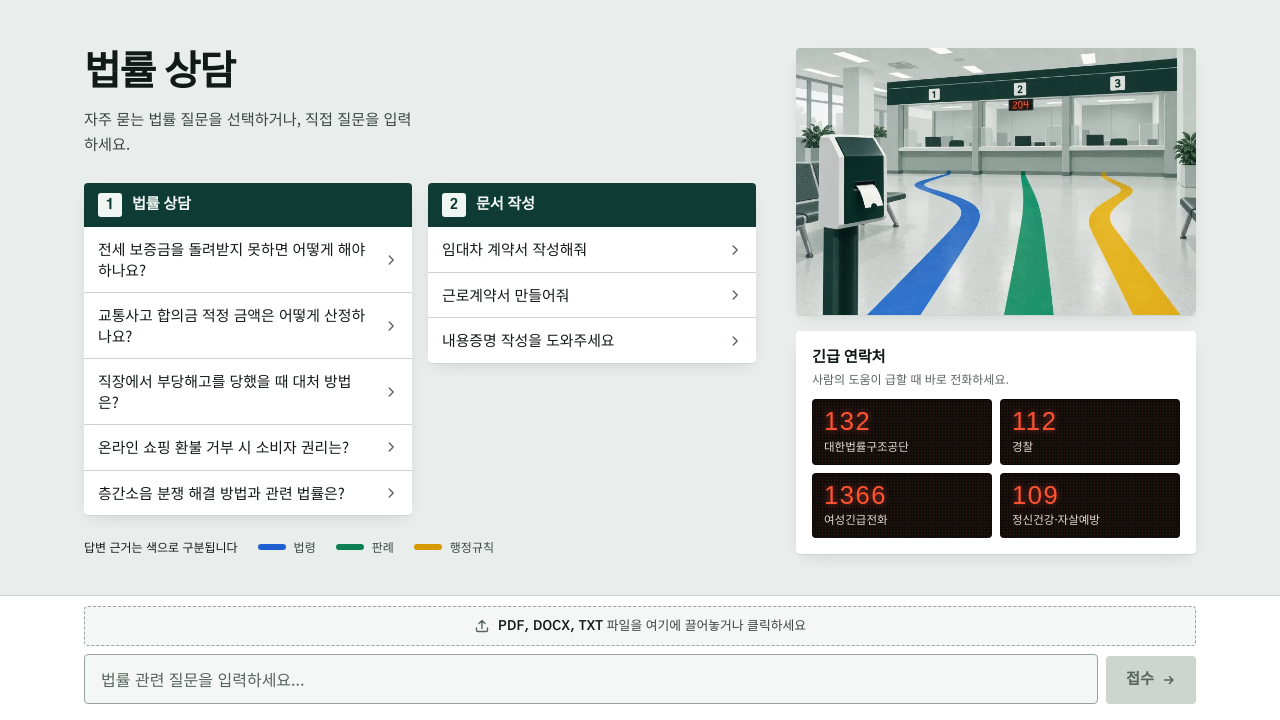
it: ChatContainer › 스트림 오류 시 재시도 › SSE 'error' 이벤트가 오면 '다시 시도' 버튼을 노출해야 한다
The image size is (1280, 720).
Step 1. Click the button "임대차 계약서 작성해줘" → (515, 249), box [428,227,756,272]
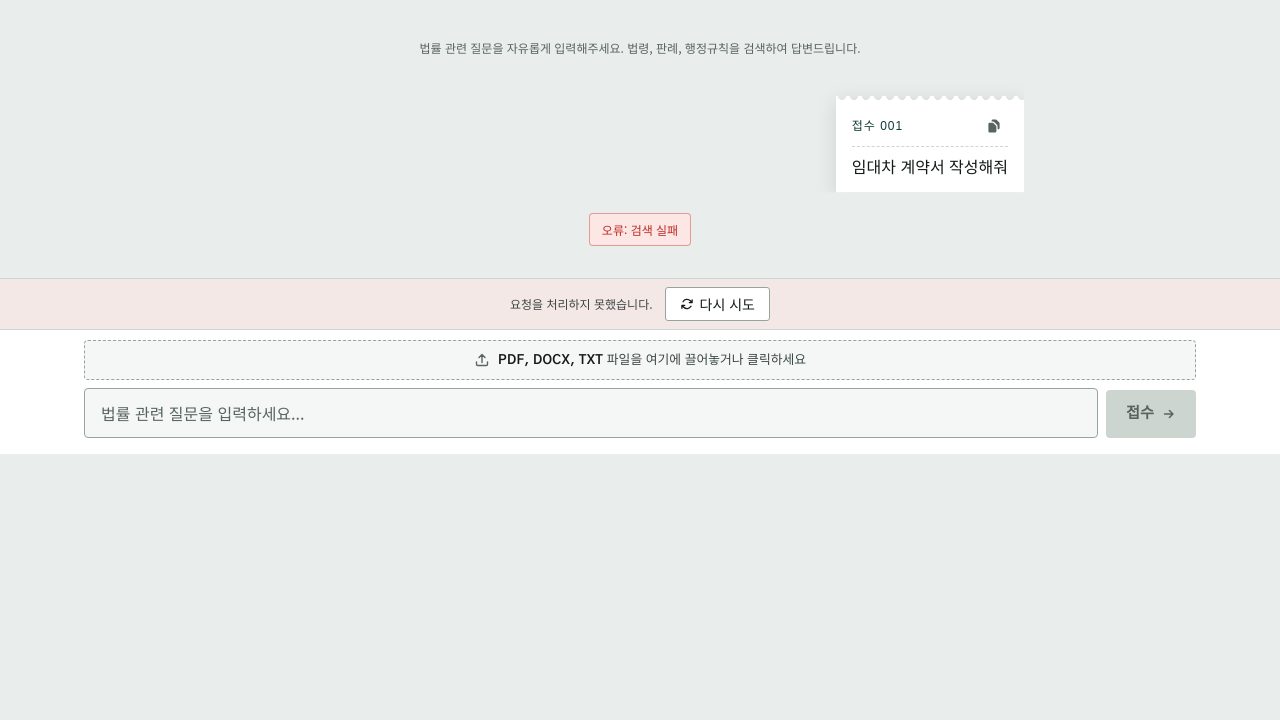
Check: the text "오류: 검색 실패" is shown, box [589,212,691,246]
Check: the button "다시 시도" is shown, box [664,287,770,321]
